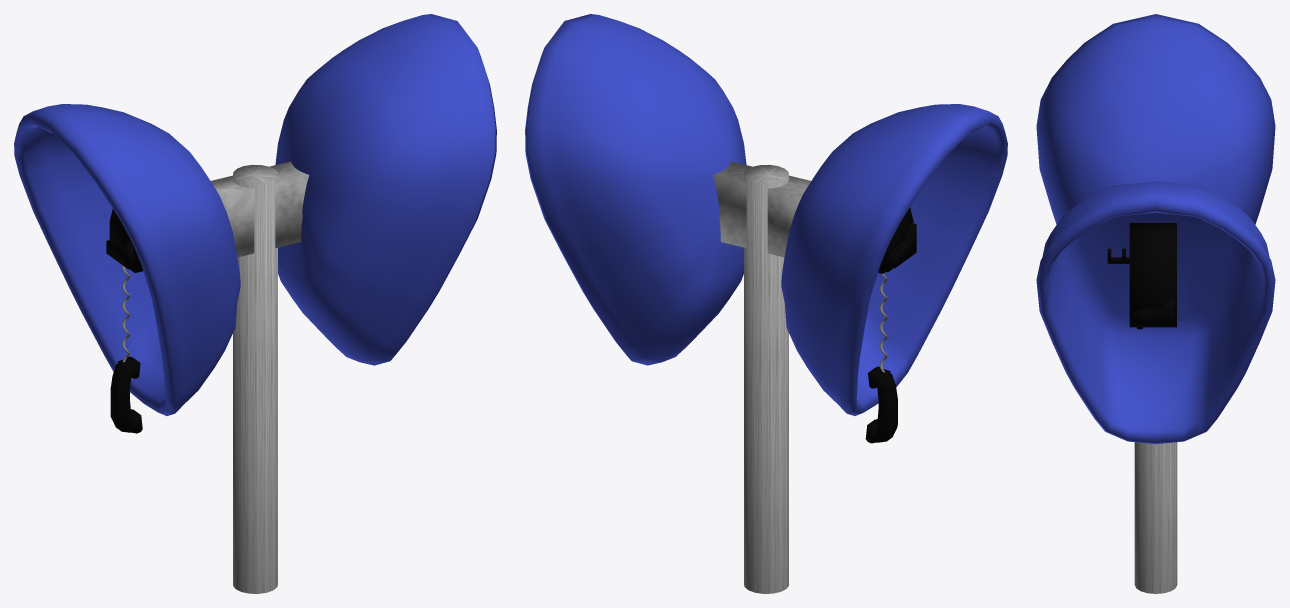
File: Orelhao.fbx
3 renders of one model, left to right at view 1: azimuth 30°, elevation 25°; view 2: azimuth 150°, elevation 25°; view 3: azimuth 270°, elevation 25°, orthographic. The views are drawn at different scales.
Parts seen in each view (by area): view 1: Orelhao; view 2: Orelhao; view 3: Orelhao.
Part boxes in pixels (x1,y1,x2,y2): Orelhao: [14, 14, 496, 593]; Orelhao: [525, 14, 1007, 593]; Orelhao: [1036, 14, 1275, 593].
Bounding box in the file's own units: 151 × 180 × 81.51.
